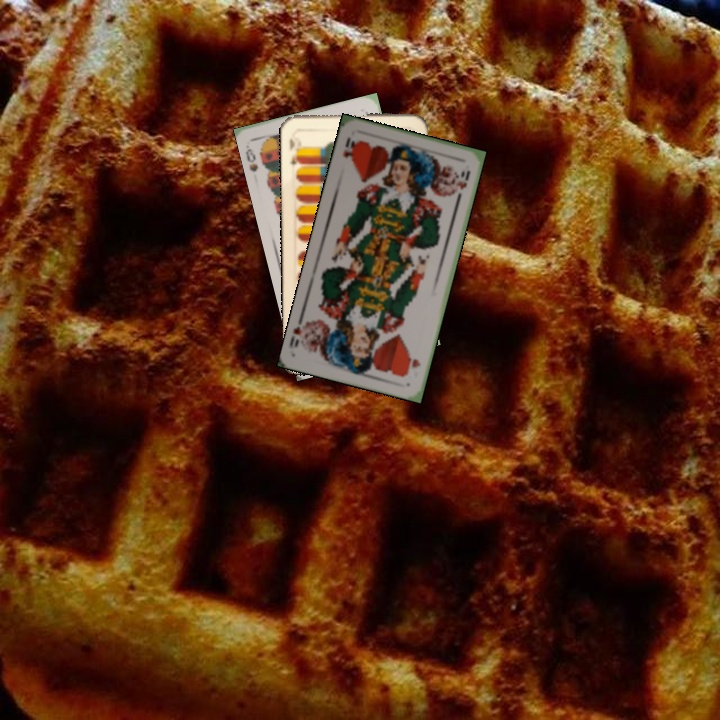E10: (285, 134, 303, 167)
HO: (339, 133, 358, 163), (403, 354, 423, 378)
S8: (242, 141, 261, 174)
